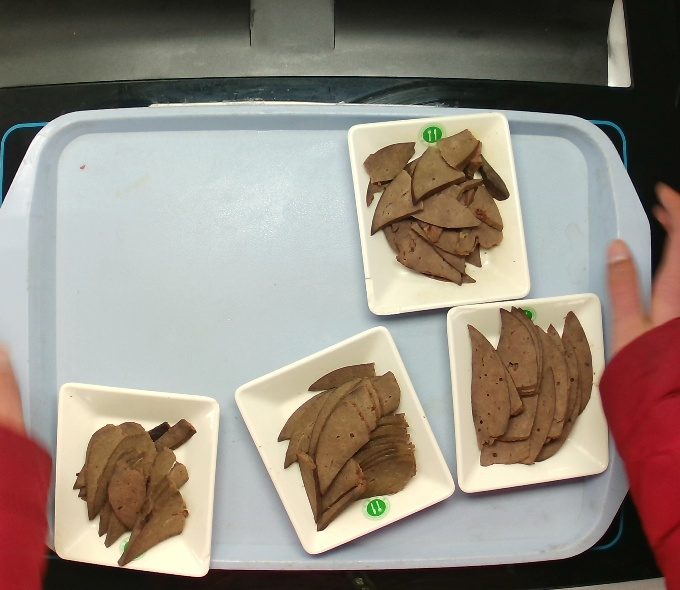wcq-ZhuGan: (270, 356, 423, 538), (356, 124, 514, 288), (461, 301, 598, 473), (68, 412, 200, 571)
